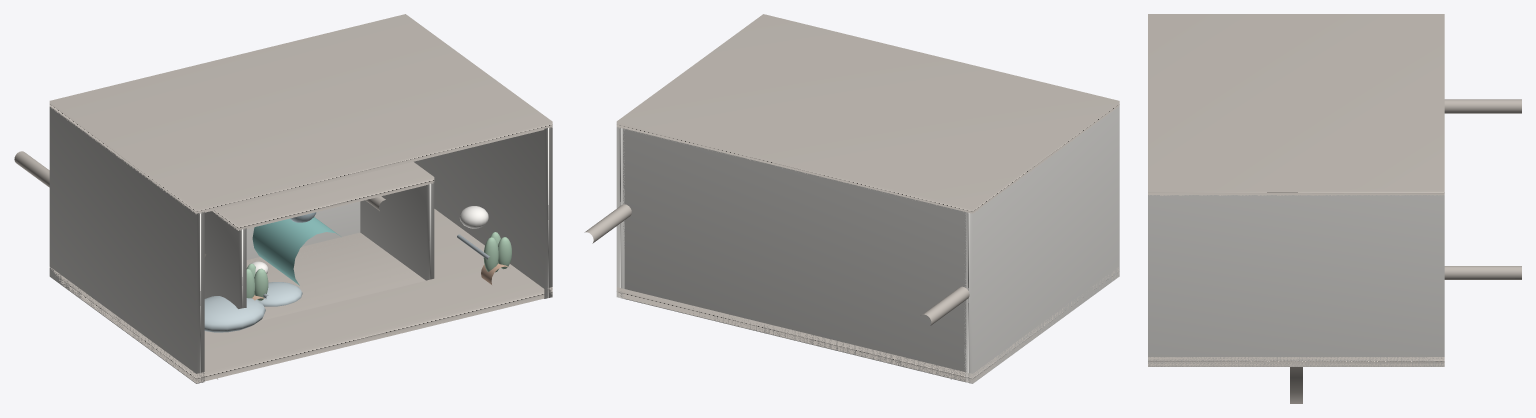
Rendered from community-kit.gltf.
3 renders of one model, left to right at view 1: azimuth 30°, elevation 25°; view 2: azimuth 150°, elevation 25°; view 3: azimuth 270°, elevation 25°, orthographic.
Parts seen in each view (by area): view 1: RoofTrim (×2), LeftWall (×2), Floor (×2), RightWall (×2), Lounge (×2), HubCore, BackWall, Corner-1, LampShade; view 2: BackWall, RoofTrim, LeftWall, Floor, RightWall, Corner1, Corner-1; view 3: RoofTrim, RightWall, Floor, Corner-1, Corner1, HubBase.
Boxes of the visible parts, box(x1,y1,x2,y2) form: RoofTrim (×2): box(49, 14, 552, 230); LeftWall (×2): box(49, 107, 246, 383); Floor (×2): box(49, 209, 552, 383); RightWall (×2): box(360, 127, 552, 298); Lounge (×2): box(204, 282, 302, 332); HubCore: box(252, 217, 340, 285); BackWall: box(246, 201, 360, 259); Corner-1: box(14, 151, 49, 187); LampShade: box(459, 206, 488, 228); BackWall: box(623, 128, 966, 382); RoofTrim: box(616, 14, 1119, 213); LeftWall: box(964, 106, 1119, 383); Floor: box(616, 267, 1119, 382); RightWall: box(616, 127, 624, 298); Corner1: box(584, 204, 631, 243); Corner-1: box(922, 286, 969, 325); RoofTrim: box(1148, 14, 1444, 195); RightWall: box(1148, 195, 1444, 366); Floor: box(1148, 357, 1444, 366); Corner-1: box(1444, 99, 1521, 113); Corner1: box(1444, 266, 1521, 279); HubBase: box(1290, 367, 1302, 403).
Size of the model in its own units: 7 by 5.37 by 6.3.
